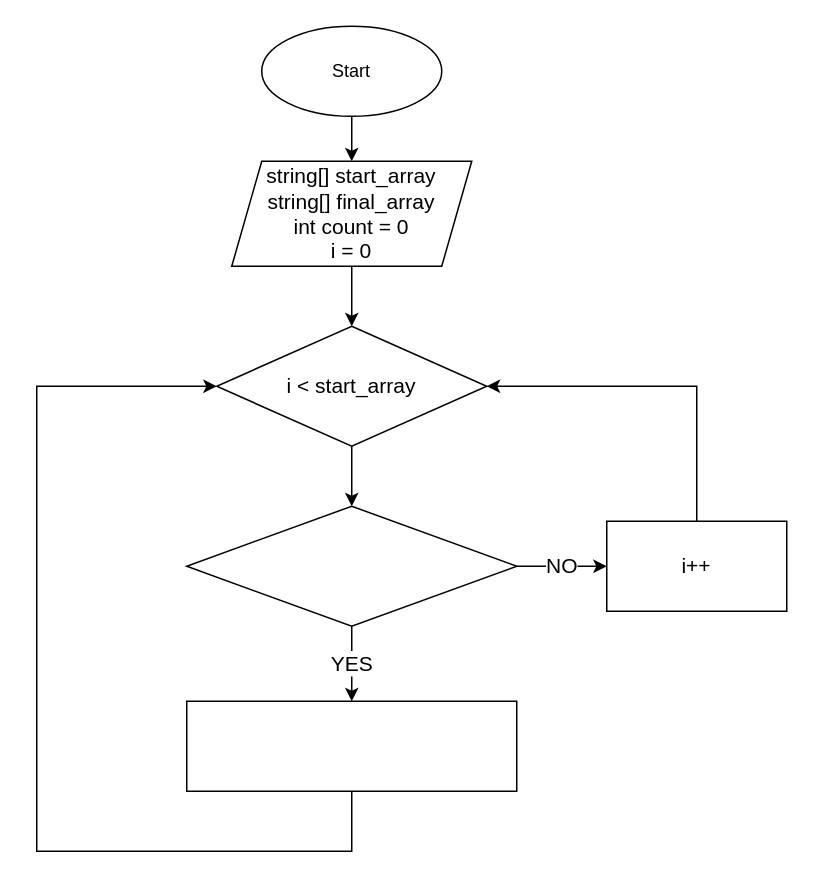
This 813x890 diagram has some shape labels left out. Each missing label, with the box of its shape:
final_array[count] = start_array[i] count++: (185, 700, 517, 791)
start_array[i].Length <= 3: (185, 505, 517, 626)
